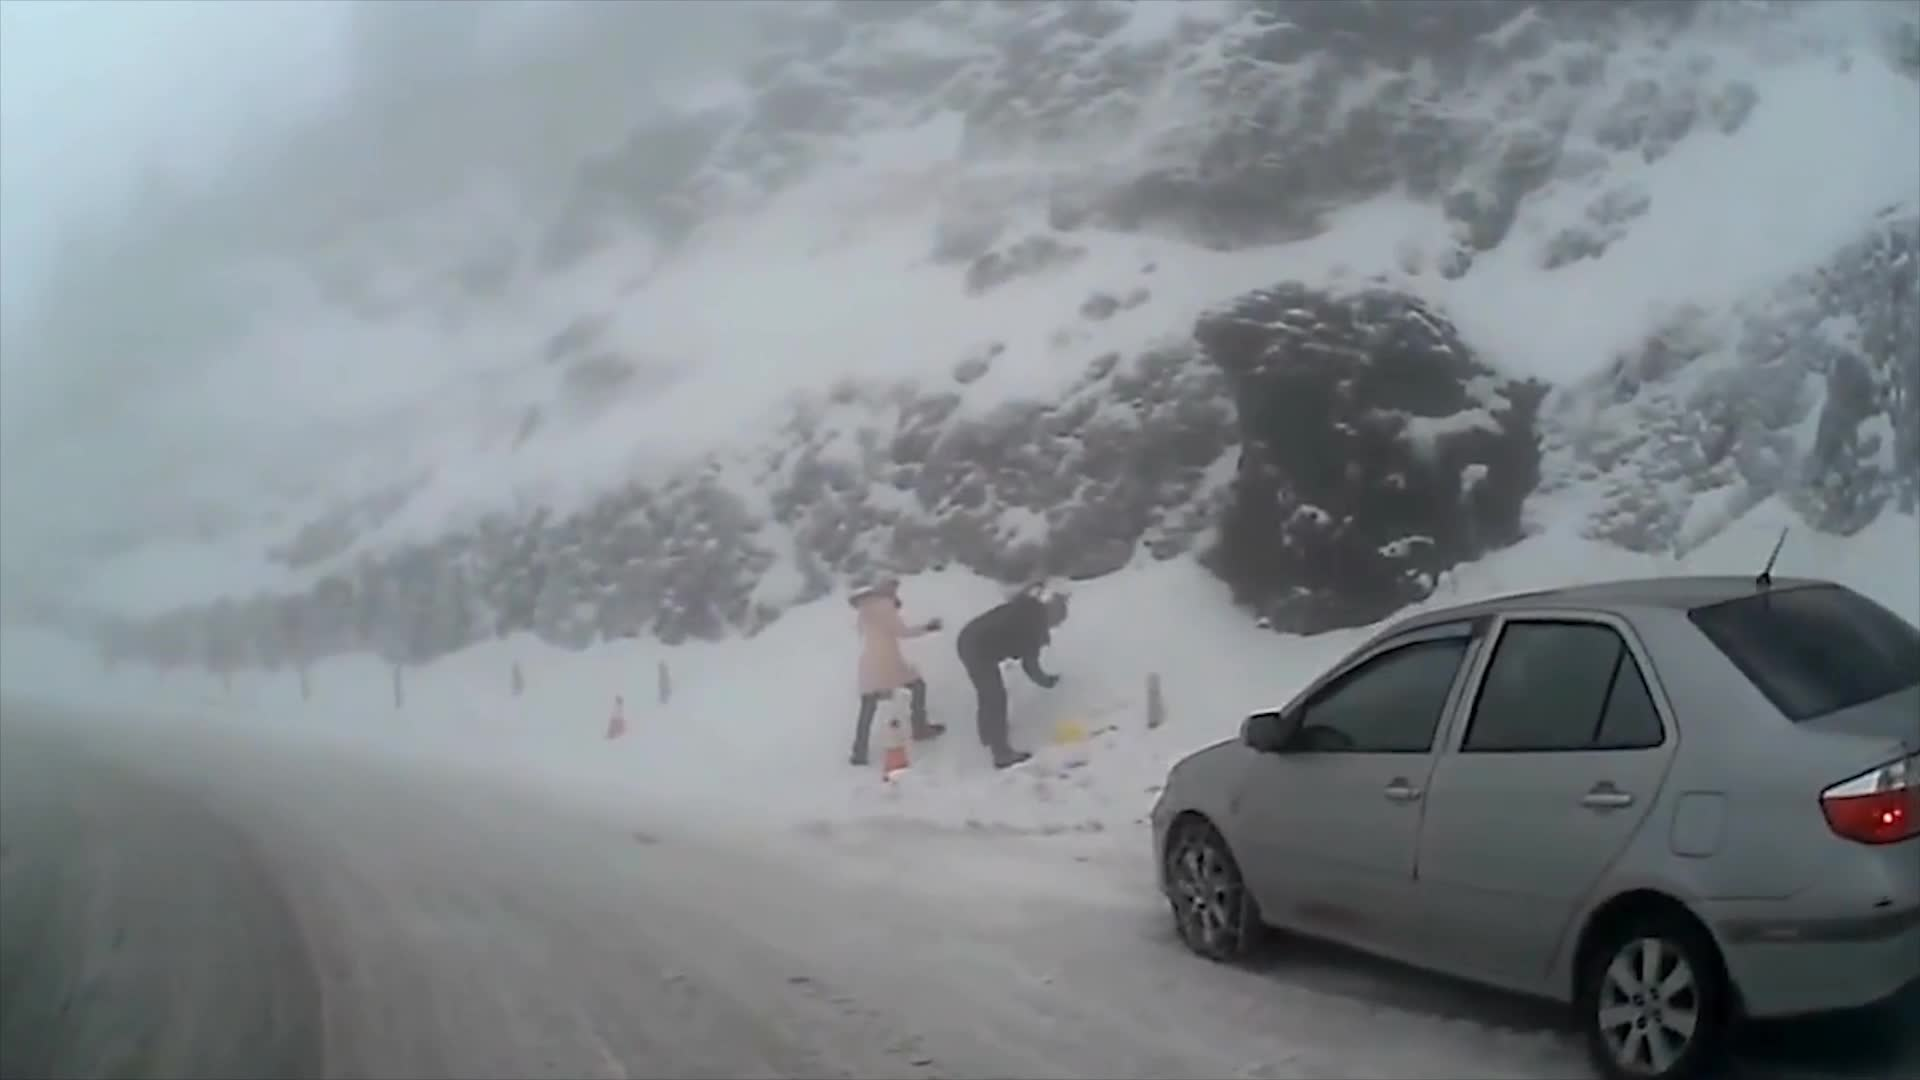pedestrian: (842, 568, 950, 766), (959, 588, 1071, 770)
vehicle: (1154, 572, 1920, 1080)
